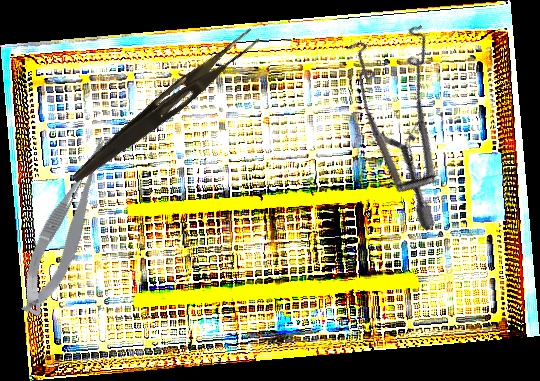Dressing Forceps: (68, 21, 262, 193)
Micro Scissor: (3, 132, 132, 321)
Speculum: (303, 2, 525, 232)
